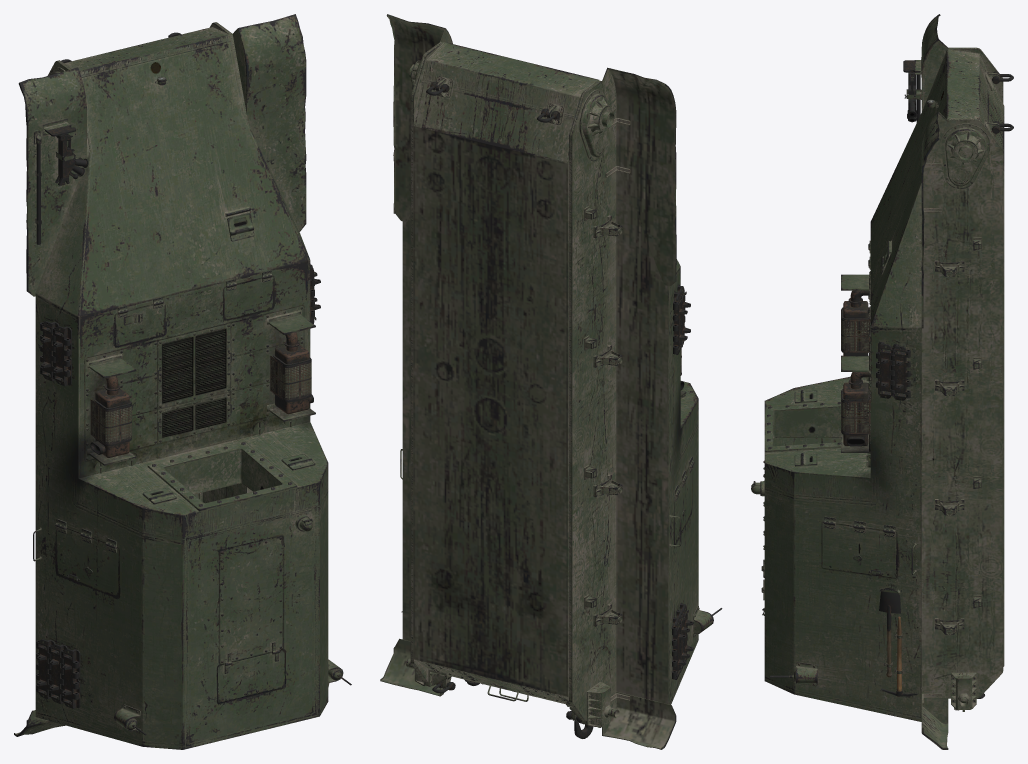
The model's file is Hull.glb.
3 views of the same model, side by side, from view 1: azimuth 30°, elevation 25°; view 2: azimuth 150°, elevation 25°; view 3: azimuth 270°, elevation 25° (orthographic). The views are drawn at different scales.
Visible parts, largest first — view 1: set_0_group_0; view 2: set_0_group_0; view 3: set_0_group_0.
Boxes of the visible parts, box(x1,y1,x2,y2) form: set_0_group_0: box(14, 14, 351, 749); set_0_group_0: box(380, 14, 722, 749); set_0_group_0: box(751, 14, 1013, 749).
Bounding box in the file's own units: 3.06 × 6.91 × 2.68.
1 material, 1 textured.
